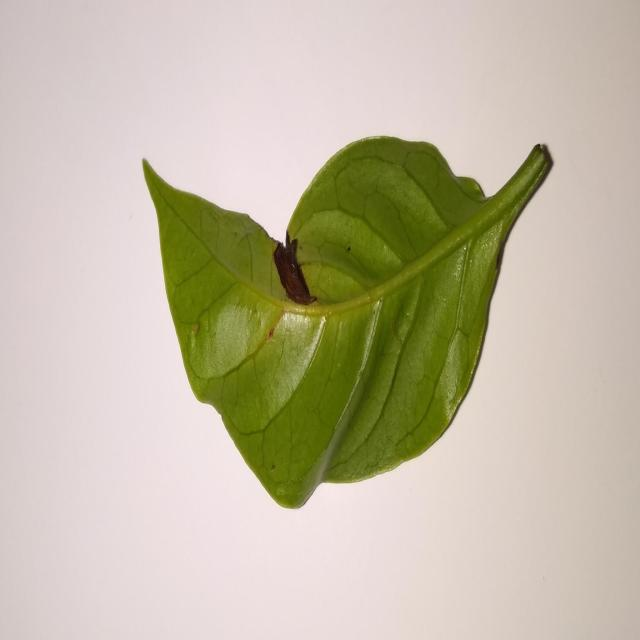phoma: (273, 231, 317, 306)
